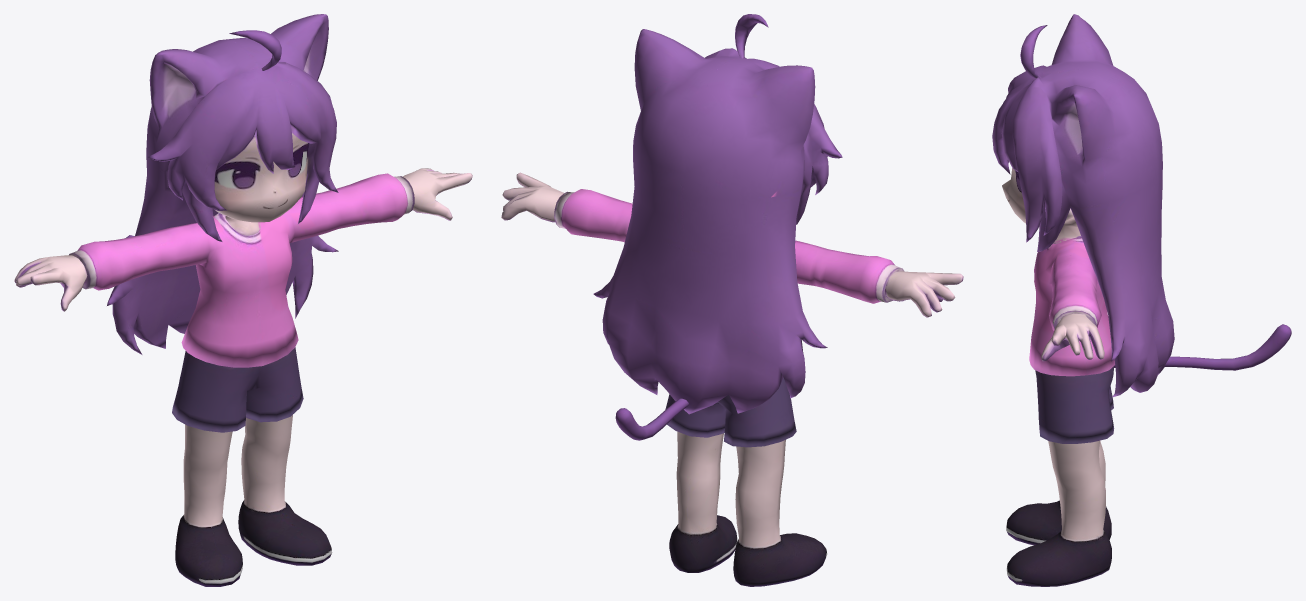
File: rigged-modelkurizu_mesh_only.glb
3 renders of one model, left to right at view 1: azimuth 30°, elevation 25°; view 2: azimuth 150°, elevation 25°; view 3: azimuth 270°, elevation 25°, orthographic. The views are drawn at different scales.
Parts seen in each view (by area): view 1: tripo_node_de3d0bdd-05bd-4952-a19d-669bf78a0916; view 2: tripo_node_de3d0bdd-05bd-4952-a19d-669bf78a0916; view 3: tripo_node_de3d0bdd-05bd-4952-a19d-669bf78a0916.
Part boxes in pixels (x1,y1,x2,y2): tripo_node_de3d0bdd-05bd-4952-a19d-669bf78a0916: [14, 14, 472, 586]; tripo_node_de3d0bdd-05bd-4952-a19d-669bf78a0916: [501, 14, 963, 586]; tripo_node_de3d0bdd-05bd-4952-a19d-669bf78a0916: [992, 14, 1291, 586].
Size of the model in its own units: 457 by 522 by 271.
Materials: 2 (1 with a texture image).
